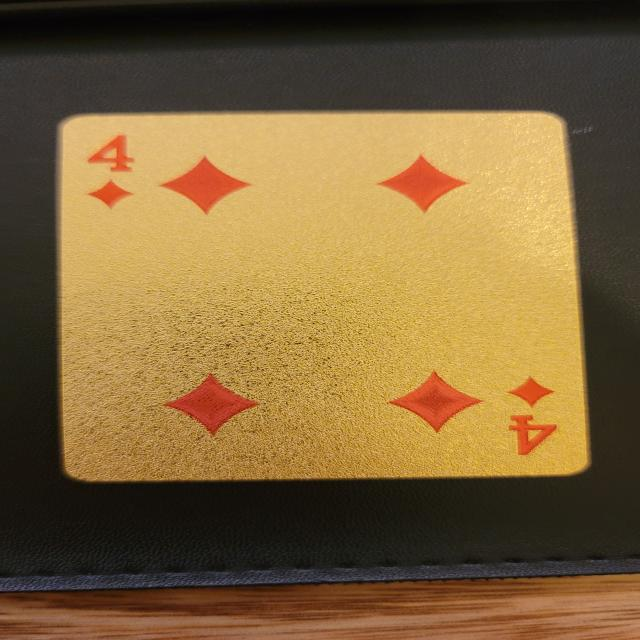4 of diamonds: (59, 111, 594, 481)
